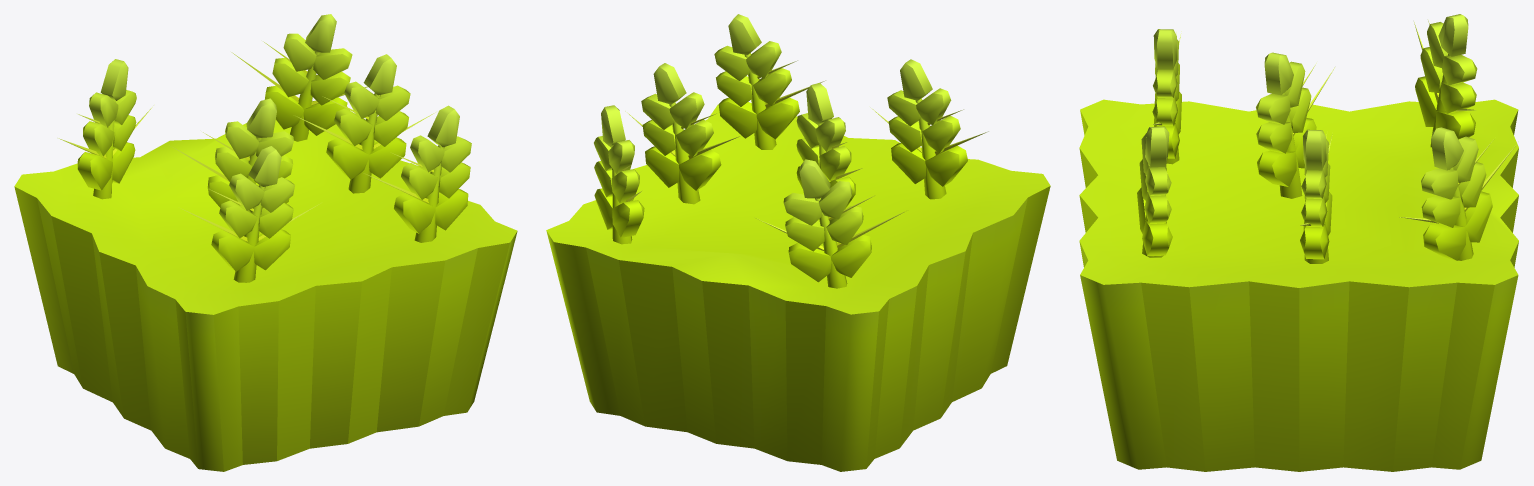
File: Farm_Crop_Wheat_Step_02.fbx
3 renders of one model, left to right at view 1: azimuth 30°, elevation 25°; view 2: azimuth 150°, elevation 25°; view 3: azimuth 270°, elevation 25°, orthographic. The views are drawn at different scales.
Visible parts, largest first — view 1: Farm_Crop_Wheat_Step_02; view 2: Farm_Crop_Wheat_Step_02; view 3: Farm_Crop_Wheat_Step_02.
Boxes of the visible parts, x1,y1,x2,y2 form: Farm_Crop_Wheat_Step_02: (14, 14, 517, 471); Farm_Crop_Wheat_Step_02: (546, 14, 1050, 471); Farm_Crop_Wheat_Step_02: (1079, 14, 1518, 471).
Size of the model in its own units: 205 by 168 by 201.
